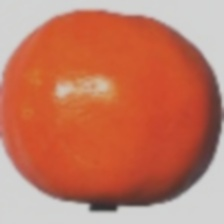tangerine: (35, 37, 189, 224)
